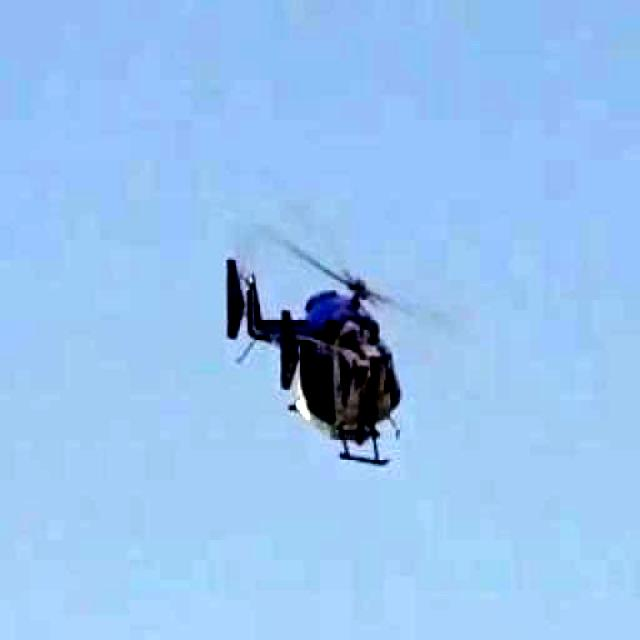drone: (191, 194, 519, 498)
